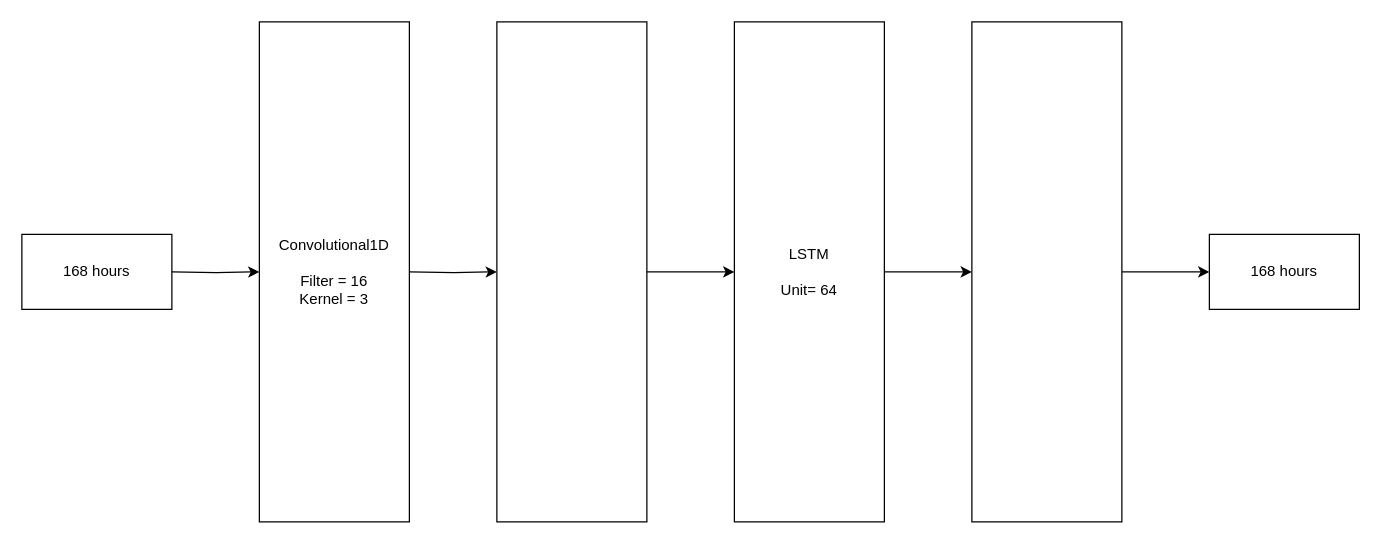
This 1381x544 diagram has some shape labels left out. Each missing label, with the centre of its shape:
"LSTM Unit = 64" belongs at [571,271].
"Time-distributed Dens Unit = 2" belongs at [1046,271].
